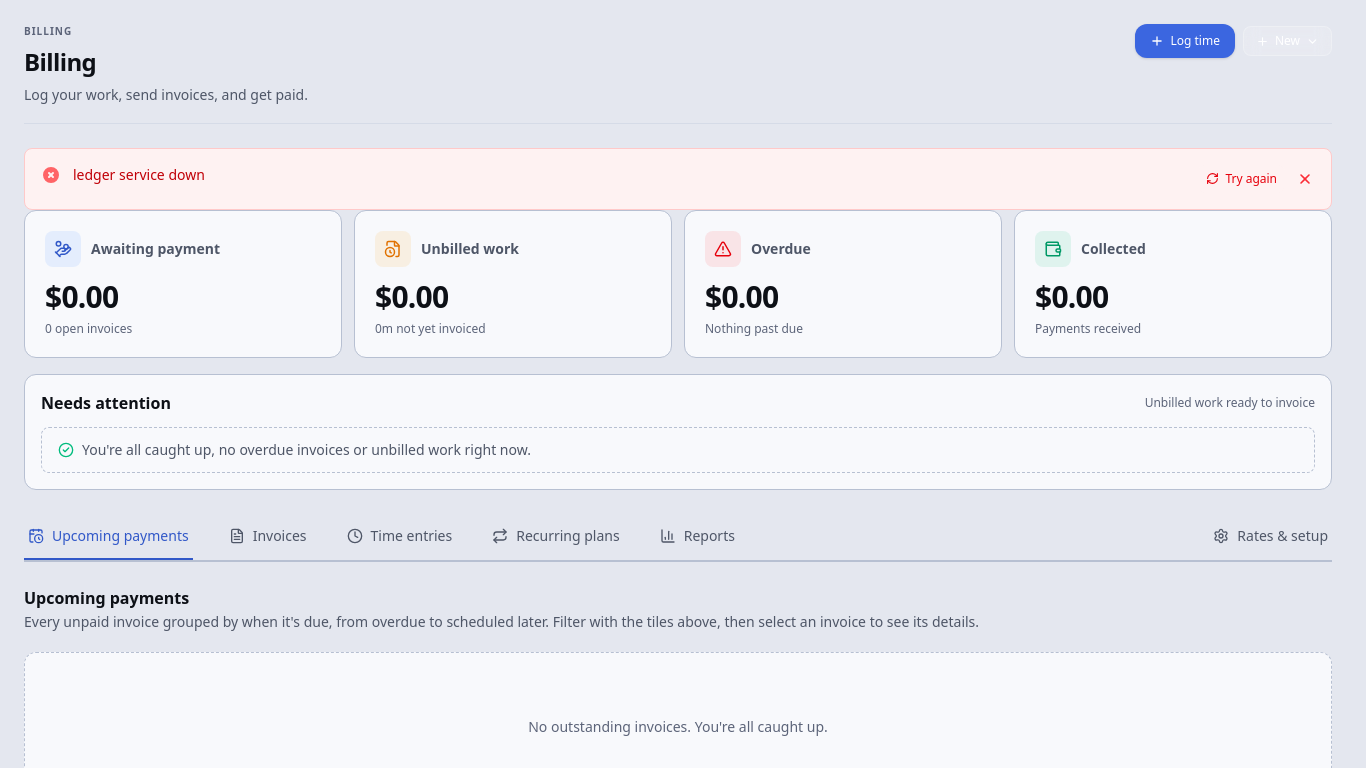
Test: an API failure, with retry › recovers the real workbench once the retry succeeds
Click the button "Try again". click: (1242, 179)
box: [1198,165,1285,193]
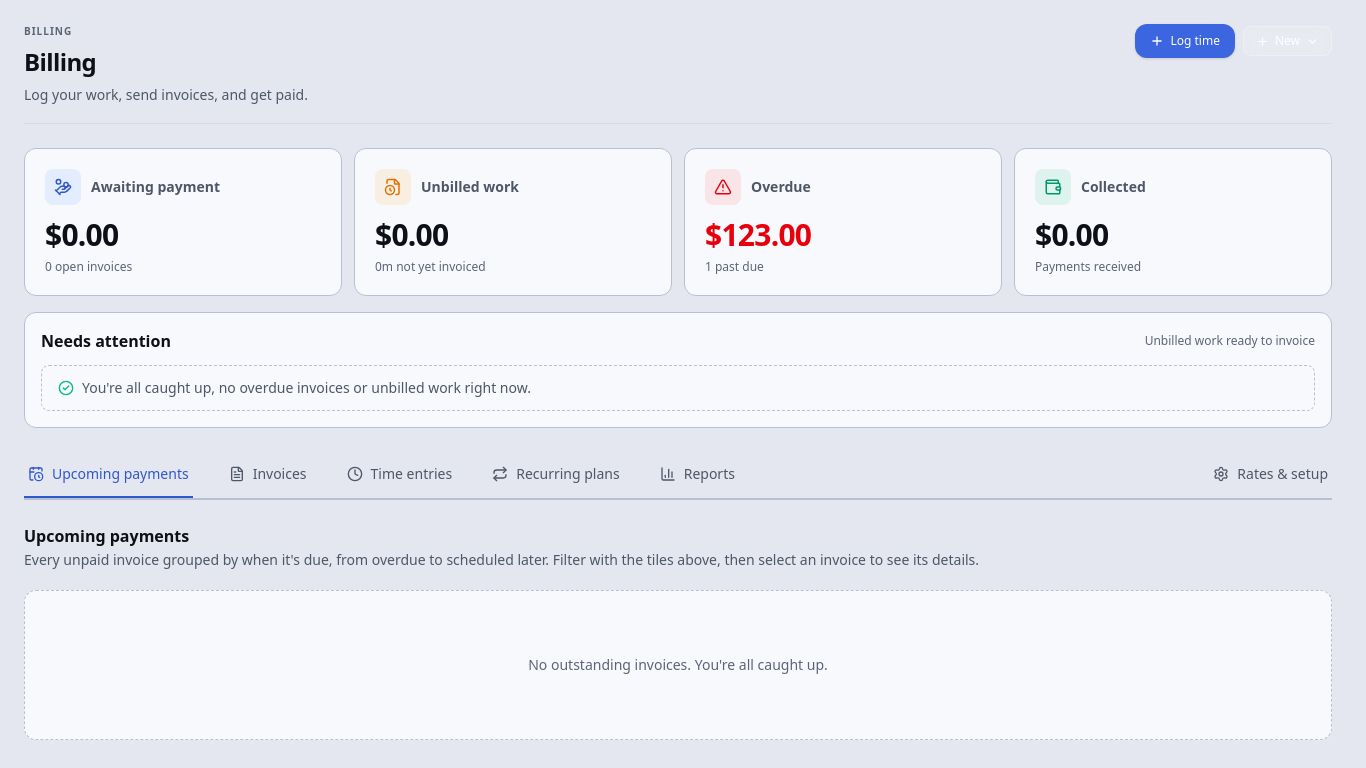
Expected: the message "ledger service down Try again" is gone
Expected: the text "$123.00" is shown, [705,217,811,253]
